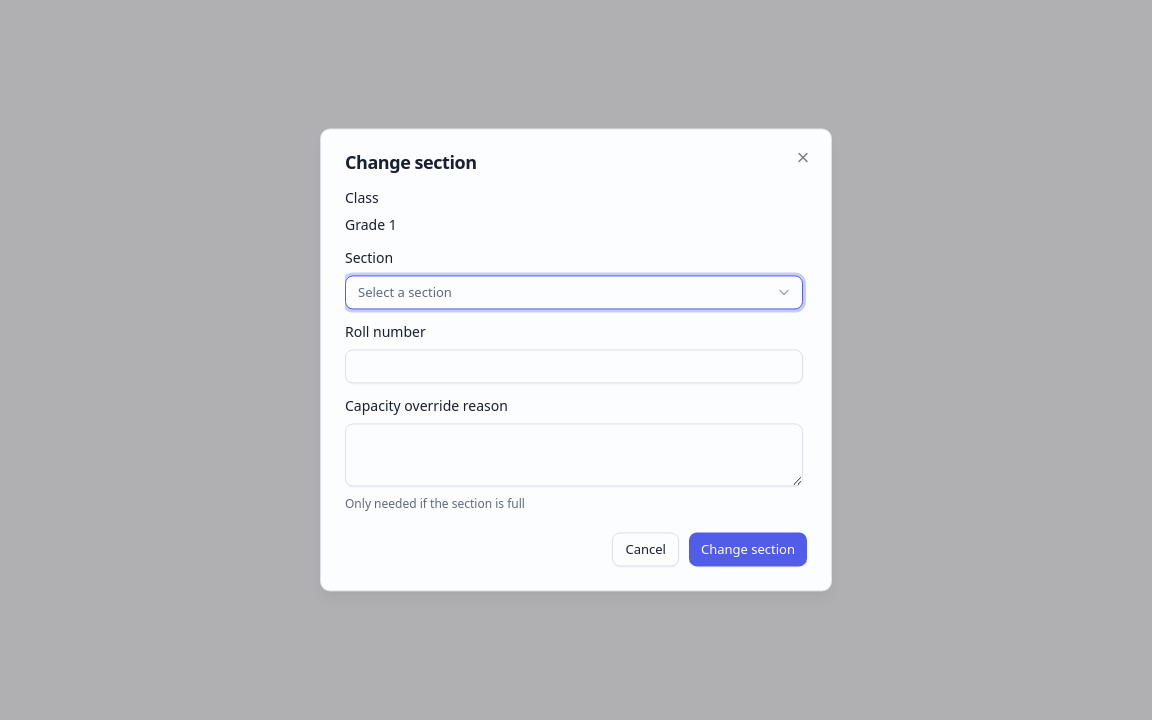
Test: ChangeSectionDialog › scopes the section picker to the destination campus and the current class
What coordinates should you click on to do the following:
click the dropdown labelled "Select a section"
I would click on:
 (405, 292)
Its box is [345, 275, 803, 309].
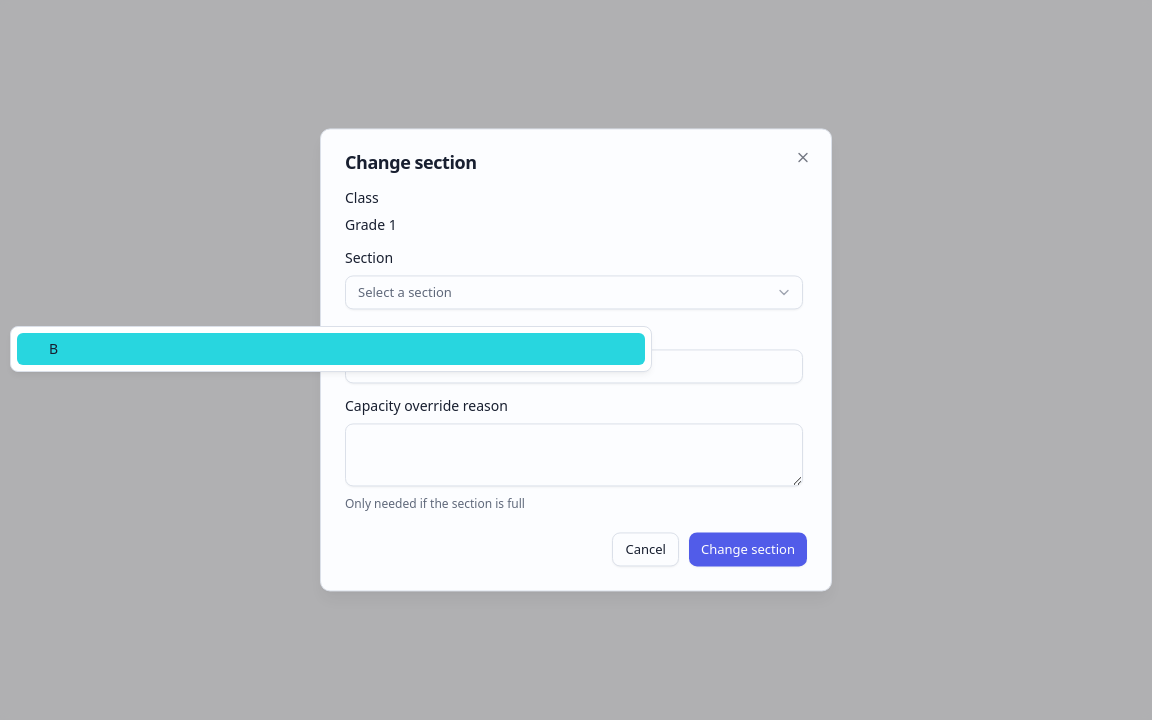
expect the option "B" is shown: met, box [17, 333, 645, 365]
